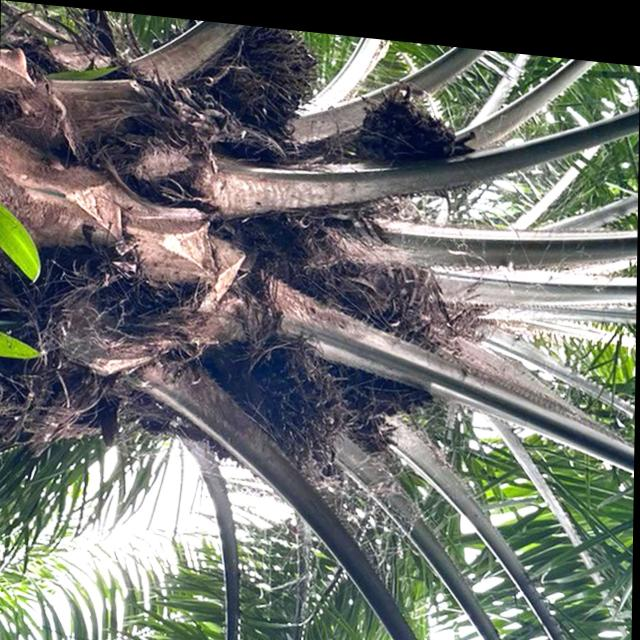unripe: (221, 313, 355, 475)
